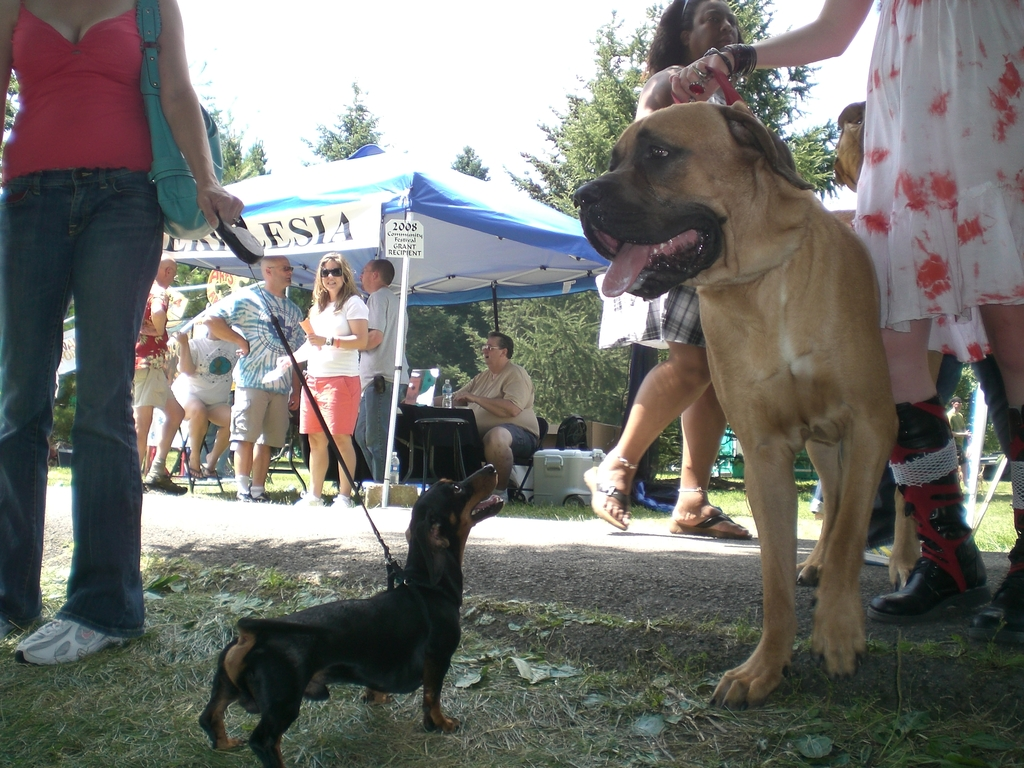Tree: (0, 0, 1024, 499)
